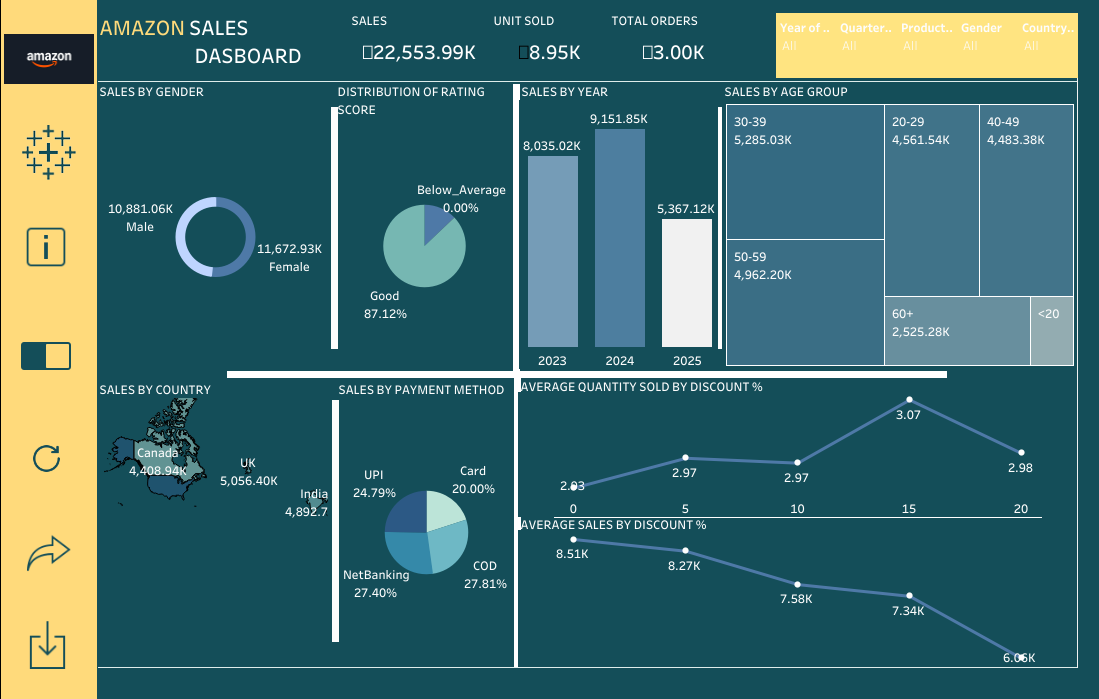

What the dashboard file says about the page in this screenshot:
{"tool":"tableau","page":{"name":"Dashboard  (overview)","canvas":[1100,700],"ordinal":1},"visuals":[{"type":"blank","box":[0,0,1,700]},{"type":"text","box":[97,0,980,81]},{"type":"blank","box":[1077,0,1,700]},{"type":"blank","box":[1078,0,22,700]},{"type":"image","param":"Image/Screenshot 2025-08-21 104859.png","box":[4,12,90,94]},{"type":"text","box":[349,12,142,15]},{"type":"text","box":[491,12,118,15]},{"type":"text","box":[609,12,130,15]},{"type":"filter","title":"8. GENDER.","param":"[federated.012de2h1aszd3g0zqnpre0hasxii].[yr:order_date:ok]","box":[776,13,60.4,65]},{"type":"filter","title":"8. GENDER.","param":"[federated.012de2h1aszd3g0zqnpre0hasxii].[qr:order_date:ok]","box":[836.4,13,60.4,65]},{"type":"filter","title":"8. GENDER.","param":"[federated.012de2h1aszd3g0zqnpre0hasxii].[none:Product_Main_Category:nk]","box":[896.8,13,60.4,65]},{"type":"filter","title":"8. GENDER.","param":"[federated.012de2h1aszd3g0zqnpre0hasxii].[none:gender:nk]","box":[957.2,13,60.4,65]},{"type":"filter","title":"8. GENDER.","param":"[federated.012de2h1aszd3g0zqnpre0hasxii].[none:country (dim_location.csv):nk]","box":[1017.6,13,60.4,65]},{"type":"worksheet","title":"14. SALES","mark":"Automatic","box":[349,27,142,49]},{"type":"worksheet","title":"15.TOTAL QUANTITY","mark":"Automatic","box":[491,27,118,49]},{"type":"worksheet","title":"16.TOTAL ORDERS","mark":"Automatic","box":[609,27,130,49]},{"type":"text","box":[160,48,787,17]},{"type":"text","box":[160,65,787,444]},{"type":"blank","box":[97,81,980,1]},{"type":"text","box":[97,82,237,17]},{"type":"blank","box":[334,82,1,292]},{"type":"text","box":[335,82,179,34]},{"type":"blank","box":[514,82,5,292]},{"type":"text","box":[519,82,202,17]},{"type":"blank","box":[721,82,1,292]},{"type":"text","box":[722,82,355,17]},{"type":"worksheet","title":"8. GENDER.","mark":"Pie","rows":["Calculation_264305047237320708","Calculation_264305047238467592"],"box":[97,99,237,275]},{"type":"worksheet","title":"3. YEARLY.","mark":"Bar","rows":["total_amount"],"cols":["order_date"],"box":[519,99,202,270]},{"type":"worksheet","title":"7. AGE GROUP.","mark":"Automatic","box":[722,99,355,270]},{"type":"image","param":"Image/TABLEAU.png","box":[21,116,56,75]},{"type":"worksheet","title":"9.RATING SCORE","mark":"Pie","box":[335,116,179,258]},{"type":"dashboard-object","box":[14,224,65,46]},{"type":"dashboard-object","box":[21,331,50,50]},{"type":"blank","box":[97,374,980,1]},{"type":"text","box":[97,375,238,22]},{"type":"blank","box":[335,375,1,292]},{"type":"text","box":[336,375,181,22]},{"type":"blank","box":[517,375,1,292]},{"type":"text","box":[518,375,559,17]},{"type":"worksheet","title":"6. AVG QUANTITY D .","mark":"Line","rows":["quantity","quantity"],"cols":["discount_applied"],"box":[518,392,559,125]},{"type":"worksheet","title":"2. COUNTRY.","mark":"Automatic","box":[97,397,238,270]},{"type":"worksheet","title":"1. PIE.","mark":"Pie","box":[336,397,181,270]},{"type":"worksheet","title":"14. reset filter","mark":"Shape","rows":["Calculation_763641656361357312"],"box":[14,429,65,59]},{"type":"blank","box":[518,517,559,1]},{"type":"text","box":[518,518,559,12]},{"type":"worksheet","title":"5. AVG SALES D.","mark":"Line","rows":["total_amount","total_amount"],"cols":["discount_applied"],"box":[518,530,559,137]},{"type":"dashboard-object","box":[12,532,75,44]},{"type":"dashboard-object","box":[13,620,69,49]},{"type":"blank","box":[97,667,980,1]},{"type":"blank","box":[97,668,980,32]}]}

Visuals, with their boxes on the page's 1100x700 design canvas (x1, y1, x2, y2). These are canvas units, not pixel positions in the 1099x699 screenshot, which may show the page scaled, cropped or inside an application window:
blank: BBox(0, 0, 1, 700)
text: BBox(97, 0, 1077, 81)
blank: BBox(1077, 0, 1078, 700)
blank: BBox(1078, 0, 1100, 700)
image: BBox(4, 12, 94, 106)
text: BBox(349, 12, 491, 27)
text: BBox(491, 12, 609, 27)
text: BBox(609, 12, 739, 27)
"8. GENDER." filter: BBox(776, 13, 836, 78)
"8. GENDER." filter: BBox(836, 13, 897, 78)
"8. GENDER." filter: BBox(897, 13, 957, 78)
"8. GENDER." filter: BBox(957, 13, 1018, 78)
"8. GENDER." filter: BBox(1018, 13, 1078, 78)
"14. SALES" worksheet: BBox(349, 27, 491, 76)
"15.TOTAL QUANTITY" worksheet: BBox(491, 27, 609, 76)
"16.TOTAL ORDERS" worksheet: BBox(609, 27, 739, 76)
text: BBox(160, 48, 947, 65)
text: BBox(160, 65, 947, 509)
blank: BBox(97, 81, 1077, 82)
text: BBox(97, 82, 334, 99)
blank: BBox(334, 82, 335, 374)
text: BBox(335, 82, 514, 116)
blank: BBox(514, 82, 519, 374)
text: BBox(519, 82, 721, 99)
blank: BBox(721, 82, 722, 374)
text: BBox(722, 82, 1077, 99)
"8. GENDER." worksheet (Pie marks): BBox(97, 99, 334, 374)
"3. YEARLY." worksheet (Bar marks): BBox(519, 99, 721, 369)
"7. AGE GROUP." worksheet: BBox(722, 99, 1077, 369)
image: BBox(21, 116, 77, 191)
"9.RATING SCORE" worksheet (Pie marks): BBox(335, 116, 514, 374)
dashboard-object: BBox(14, 224, 79, 270)
dashboard-object: BBox(21, 331, 71, 381)
blank: BBox(97, 374, 1077, 375)
text: BBox(97, 375, 335, 397)
blank: BBox(335, 375, 336, 667)
text: BBox(336, 375, 517, 397)
blank: BBox(517, 375, 518, 667)
text: BBox(518, 375, 1077, 392)
"6. AVG QUANTITY D ." worksheet (Line marks): BBox(518, 392, 1077, 517)
"2. COUNTRY." worksheet: BBox(97, 397, 335, 667)
"1. PIE." worksheet (Pie marks): BBox(336, 397, 517, 667)
"14. reset filter" worksheet (Shape marks): BBox(14, 429, 79, 488)
blank: BBox(518, 517, 1077, 518)
text: BBox(518, 518, 1077, 530)
"5. AVG SALES D." worksheet (Line marks): BBox(518, 530, 1077, 667)
dashboard-object: BBox(12, 532, 87, 576)
dashboard-object: BBox(13, 620, 82, 669)
blank: BBox(97, 667, 1077, 668)
blank: BBox(97, 668, 1077, 700)
